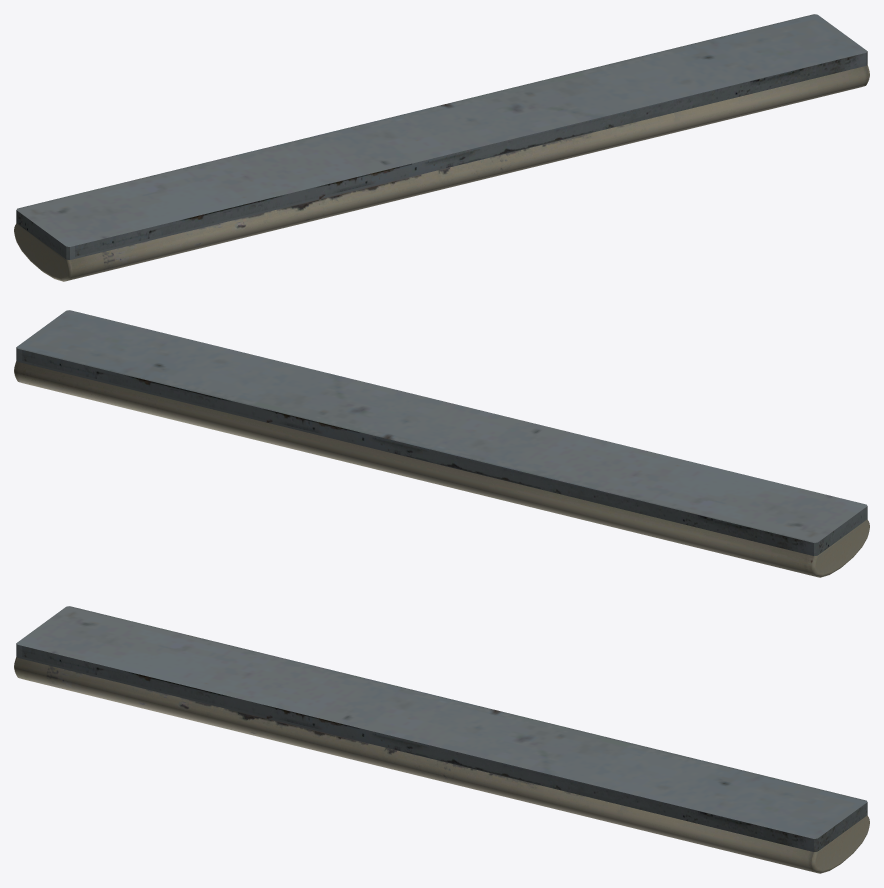
The model's file is office_light002.glb.
The picture shows the model from 3 angles, top to bottom: view 1: azimuth 30°, elevation 25°; view 2: azimuth 150°, elevation 25°; view 3: azimuth 330°, elevation 25°; orthographic projection.
Parts seen in each view (by area): view 1: office_light002; view 2: office_light002; view 3: office_light002.
Boxes of the visible parts, <box> form: office_light002: <box>14,14,869,281</box>; office_light002: <box>14,310,869,577</box>; office_light002: <box>14,606,869,873</box>.
Bounding box in the file's own units: 2.44 × 0.1301 × 0.3026.
Materials: 1 (1 with a texture image).
